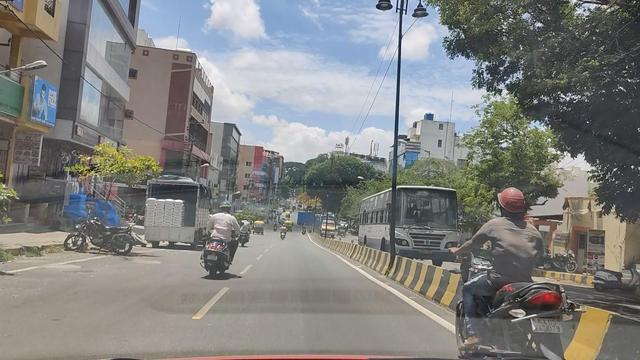HMV: (141, 164, 210, 252)
LMV: (432, 184, 587, 360), (206, 203, 240, 277)
